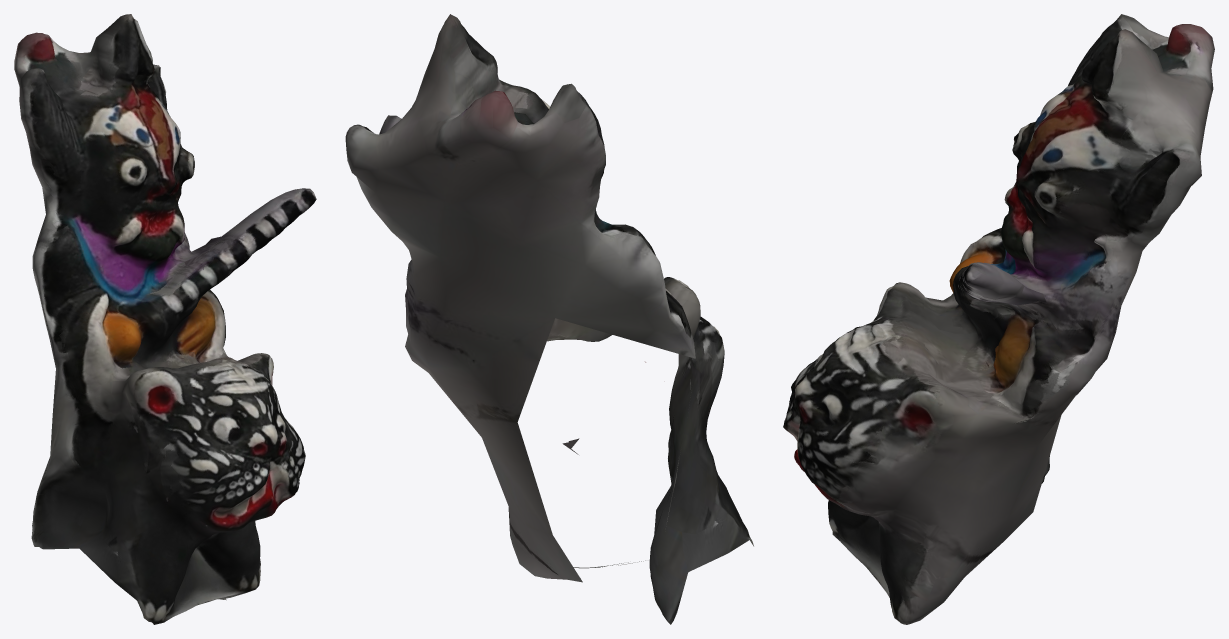
3 renders of one model, left to right at view 1: azimuth 30°, elevation 25°; view 2: azimuth 150°, elevation 25°; view 3: azimuth 270°, elevation 25°, orthographic. The views are drawn at different scales.
Size of the model in its own units: 0.148 by 0.2846 by 0.1918.
1 material, 1 textured.
